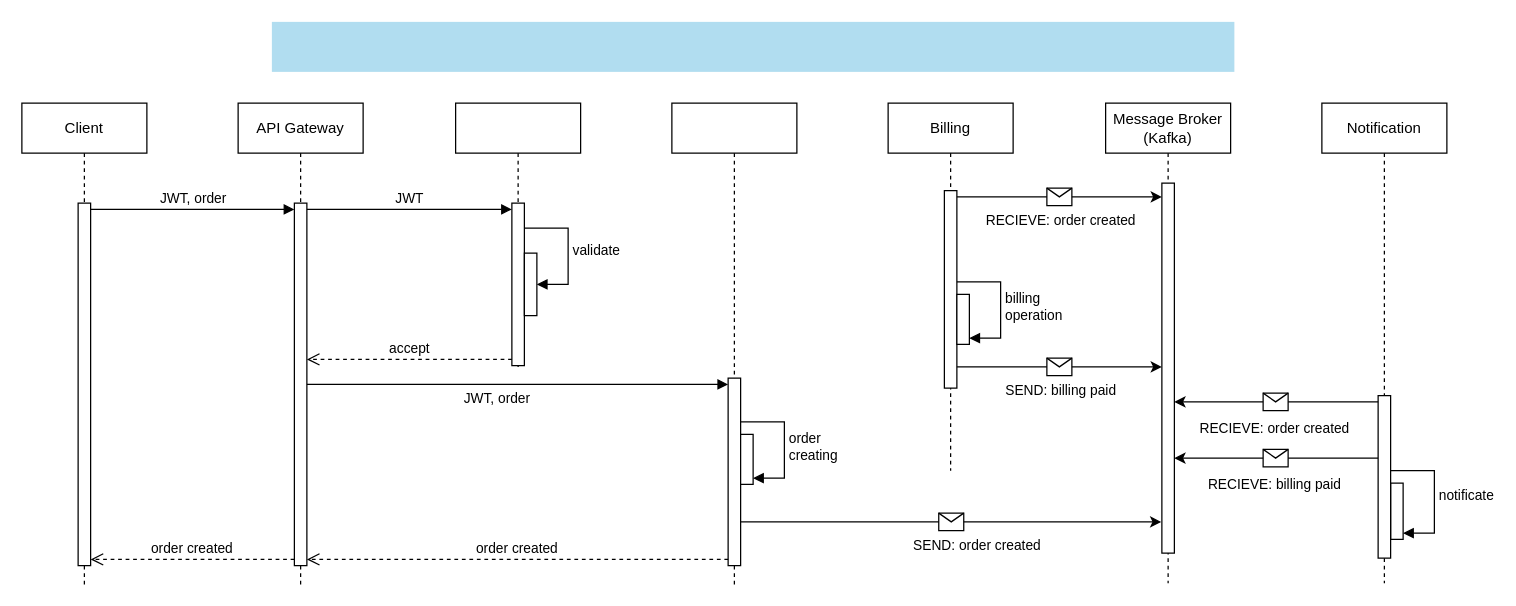
Image size: 1516x606. Some labels were removed from this diagram. Here are the shapes that lost their labels. From the top down, the centre of each, then its label:
At (x=752, y=46): "Event Collaboration: Заказ".
At (x=517, y=234): "User".
At (x=734, y=343): "Order".
